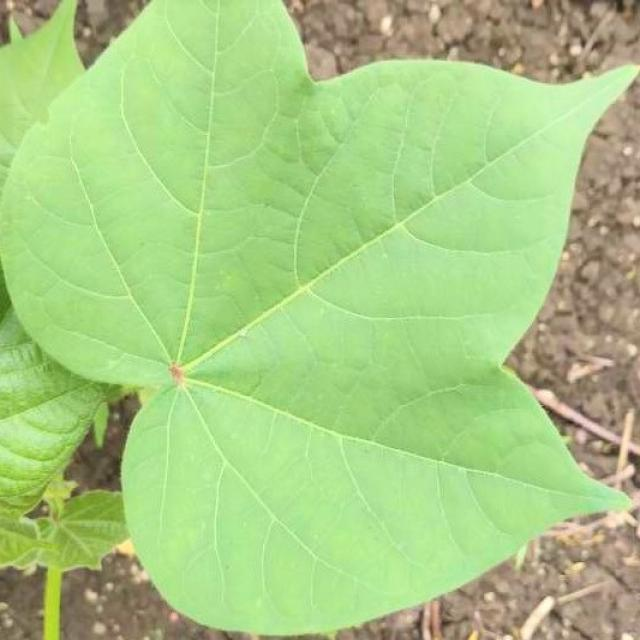Healthy Leaf: (22, 50, 614, 530)
